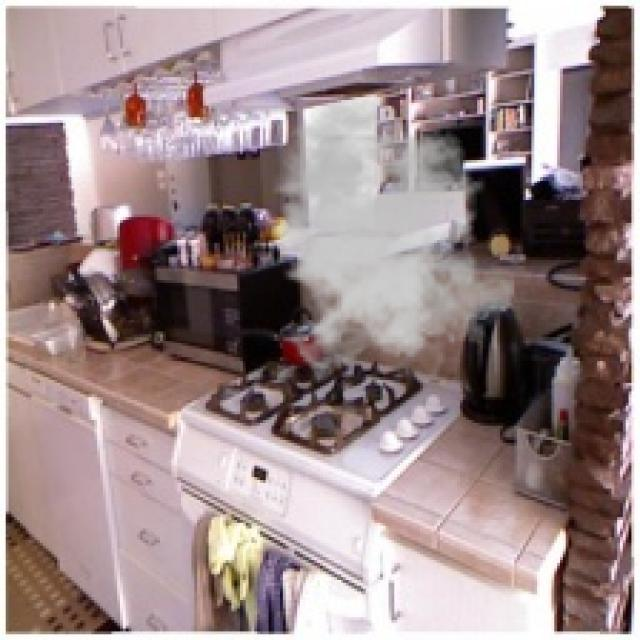smoke: (246, 94, 514, 377)
